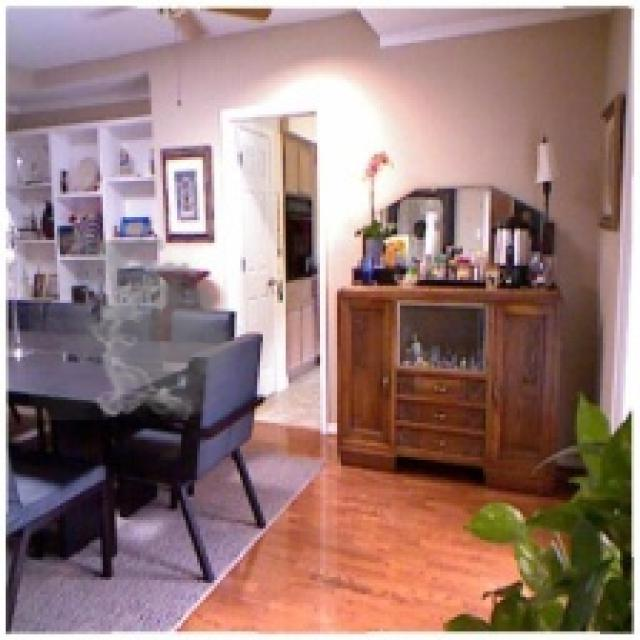smoke: (28, 223, 252, 423)
